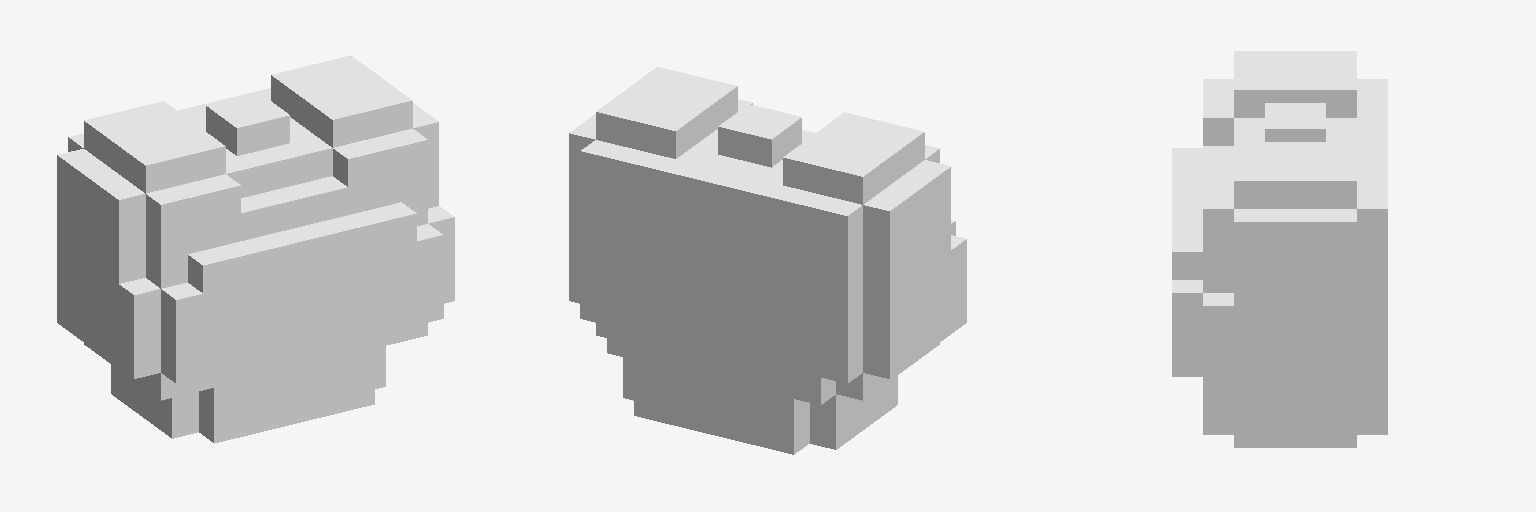
Rendered from female-10.obj.
3 views of the same model, side by side, from view 1: azimuth 30°, elevation 25°; view 2: azimuth 150°, elevation 25°; view 3: azimuth 270°, elevation 25° (orthographic).
Visible parts, largest first — view 1: object 1; view 2: object 1; view 3: object 1.
Boxes of the visible parts, box(x1,y1,x2,y2) form: object 1: box(57, 55, 454, 443); object 1: box(569, 67, 966, 454); object 1: box(1172, 51, 1387, 447).
Bounding box in the file's own units: 1.2 × 1 × 0.7.